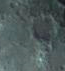crater: (19, 4, 60, 58)
